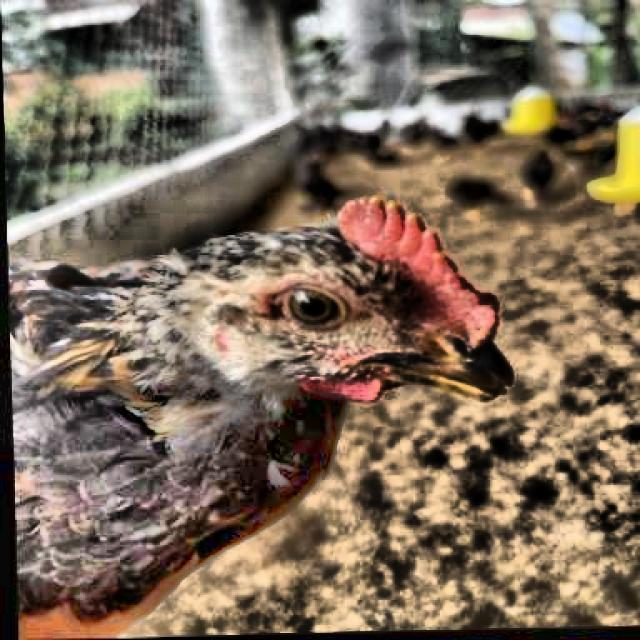Healthy: (262, 275, 358, 337)
